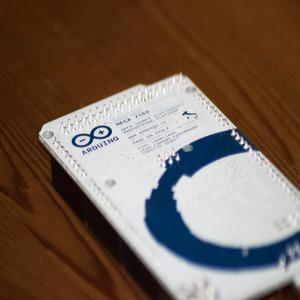duino: (34, 55, 300, 300)
